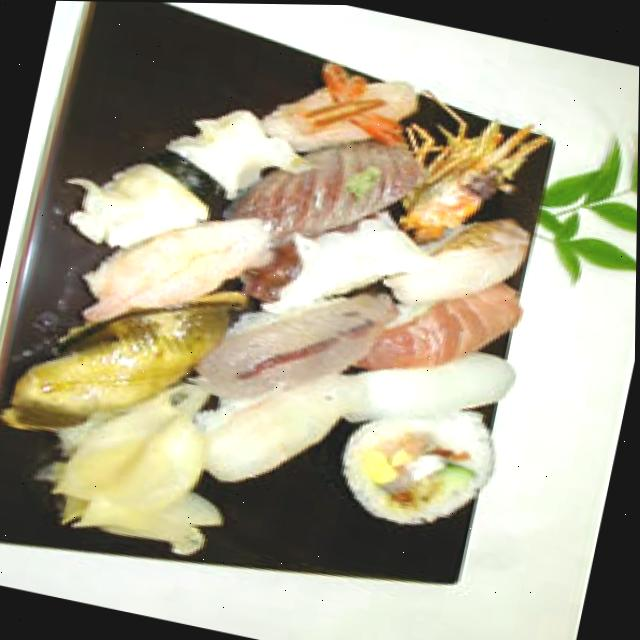寿司卷物: (0, 17, 589, 606)
